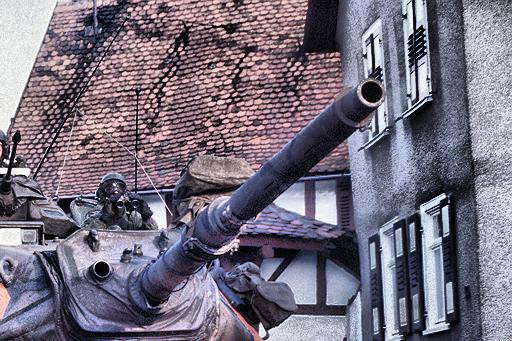tanks: (1, 81, 385, 341)
